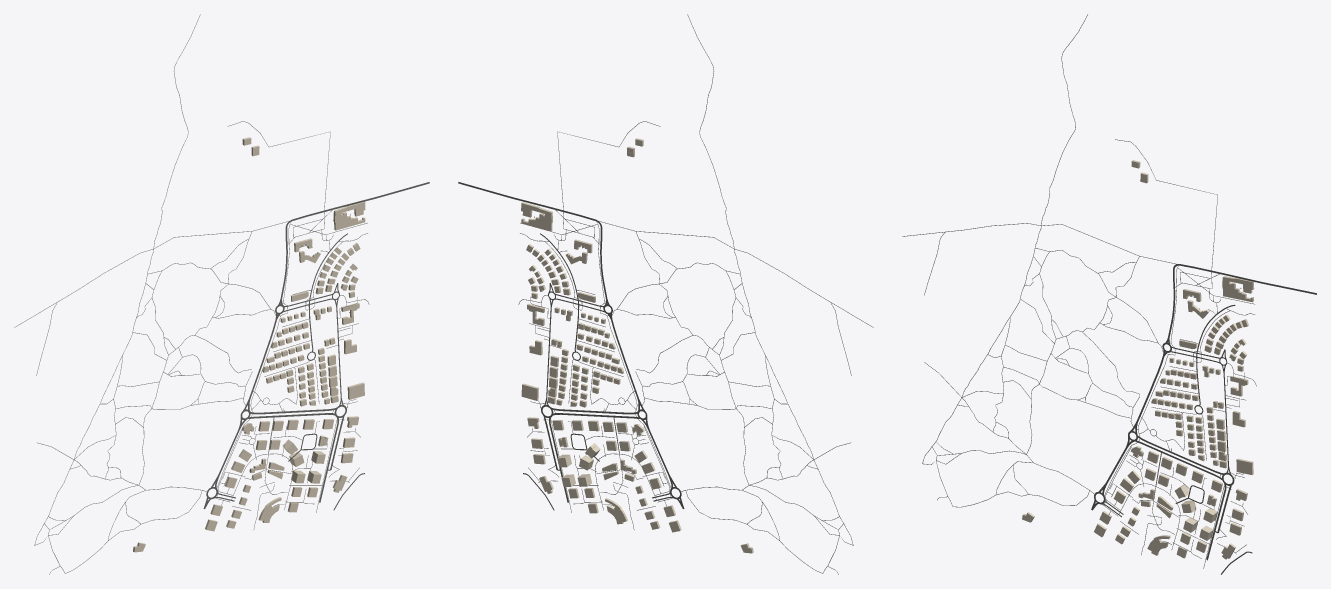
Rendered from historic-palestine-06_25_3478_3193.glb.
3 renders of one model, left to right at view 1: azimuth 30°, elevation 25°; view 2: azimuth 150°, elevation 25°; view 3: azimuth 330°, elevation 25°, orthographic.
Parts seen in each view (by area): view 1: Building_.086; view 2: Building_.086; view 3: Building_.086.
Part boxes in pixels (x1,y1,x2,y2): Building_.086: (333,201,365,230); Building_.086: (521,202,552,231); Building_.086: (1222,276,1254,302).
Size of the model in its own units: 1253 by 1526 by 26.
